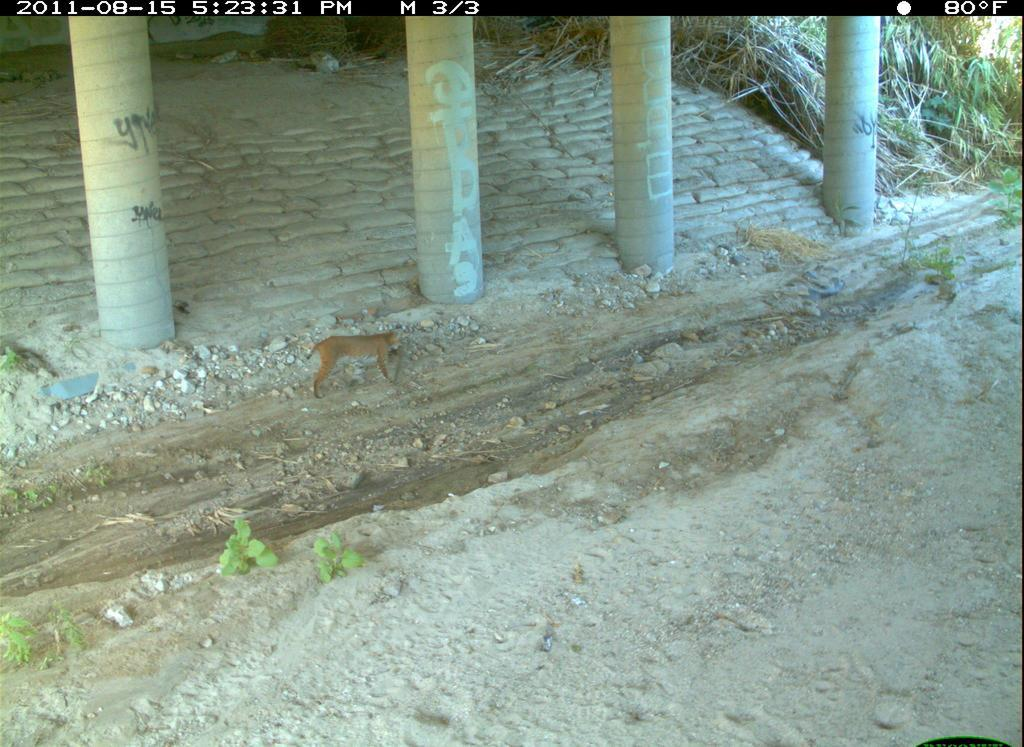bobcat: (599, 642, 820, 747)
rabbit: (777, 681, 821, 747)
